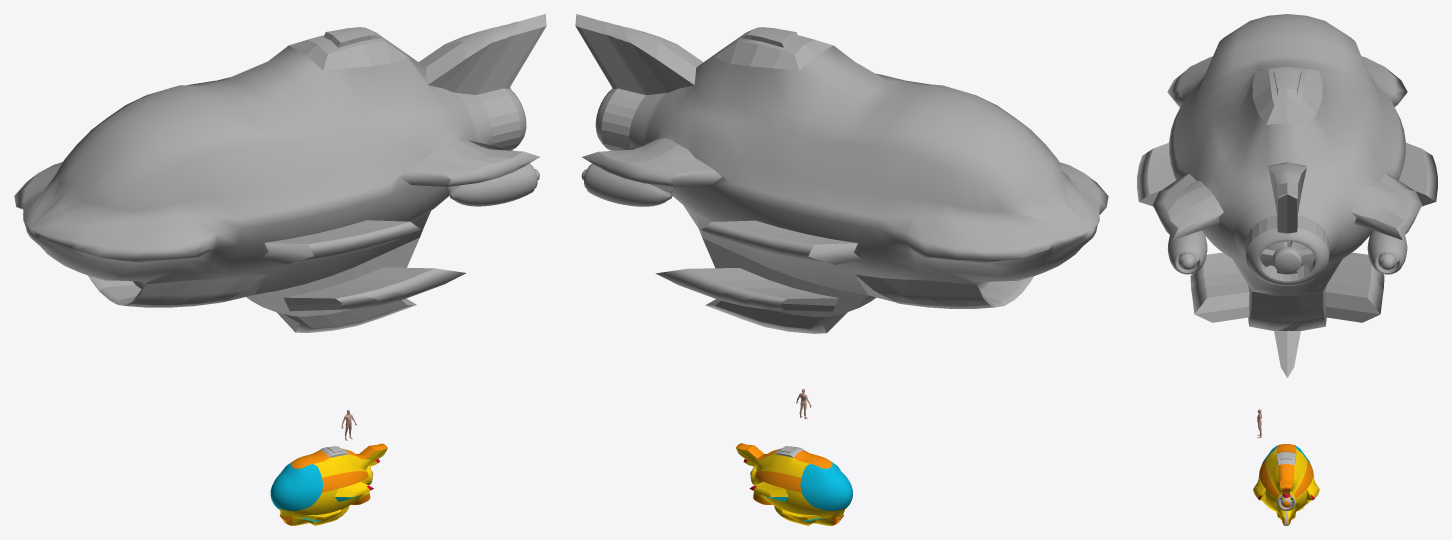
File: Mini Submarino HN700 Roboto.fbx
3 views of the same model, side by side, from view 1: azimuth 30°, elevation 25°; view 2: azimuth 150°, elevation 25°; view 3: azimuth 270°, elevation 25° (orthographic). The views are drawn at different scales.
Parts seen in each view (by area): view 1: HN520_Titanya, HN700_Roboto, Titanya_Motores_de_Leme1; view 2: HN520_Titanya, HN700_Roboto, Titanya_Motores_de_Leme2; view 3: HN520_Titanya, HN700_Roboto, Titanya_Motores_de_Leme2, Titanya_Motores_de_Leme1.
Part boxes in pixels (left/top/right/bottom): HN520_Titanya: left=14, top=14, right=546, bottom=332; HN700_Roboto: left=270, top=443, right=387, bottom=525; Titanya_Motores_de_Leme1: left=446, top=163, right=539, bottom=206; HN520_Titanya: left=575, top=14, right=1108, bottom=333; HN700_Roboto: left=736, top=443, right=852, bottom=525; Titanya_Motores_de_Leme2: left=581, top=163, right=674, bottom=206; HN520_Titanya: left=1137, top=14, right=1437, bottom=377; HN700_Roboto: left=1253, top=444, right=1319, bottom=525; Titanya_Motores_de_Leme2: left=1367, top=230, right=1407, bottom=274; Titanya_Motores_de_Leme1: left=1167, top=230, right=1207, bottom=274.
Size of the model in its own units: 3383 by 3034 by 1827.
